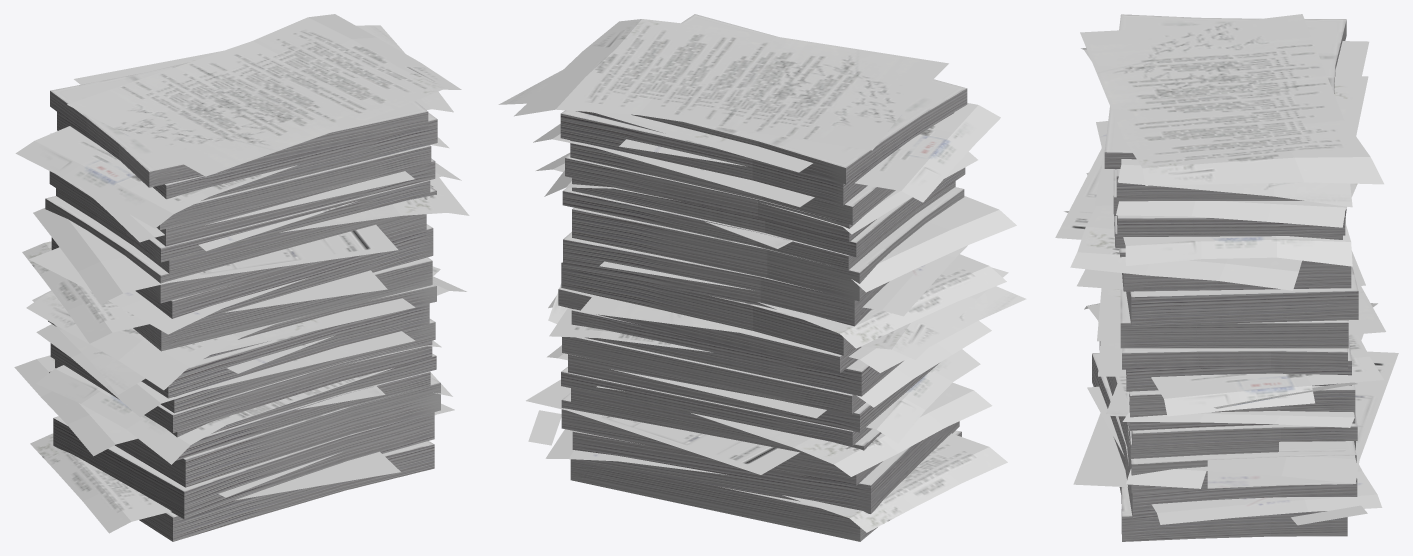
The model's file is files.glb.
3 renders of one model, left to right at view 1: azimuth 30°, elevation 25°; view 2: azimuth 150°, elevation 25°; view 3: azimuth 270°, elevation 25°, orthographic. The views are drawn at different scales.
Visible parts, largest first — view 1: Many Files; view 2: Many Files; view 3: Many Files.
Boxes of the visible parts, <box> form: Many Files: <box>14,14,469,541</box>; Many Files: <box>498,14,1026,541</box>; Many Files: <box>1055,14,1398,541</box>.
Bounding box in the file's own units: 2.38 × 2.14 × 1.73.
1 material, 1 textured.
